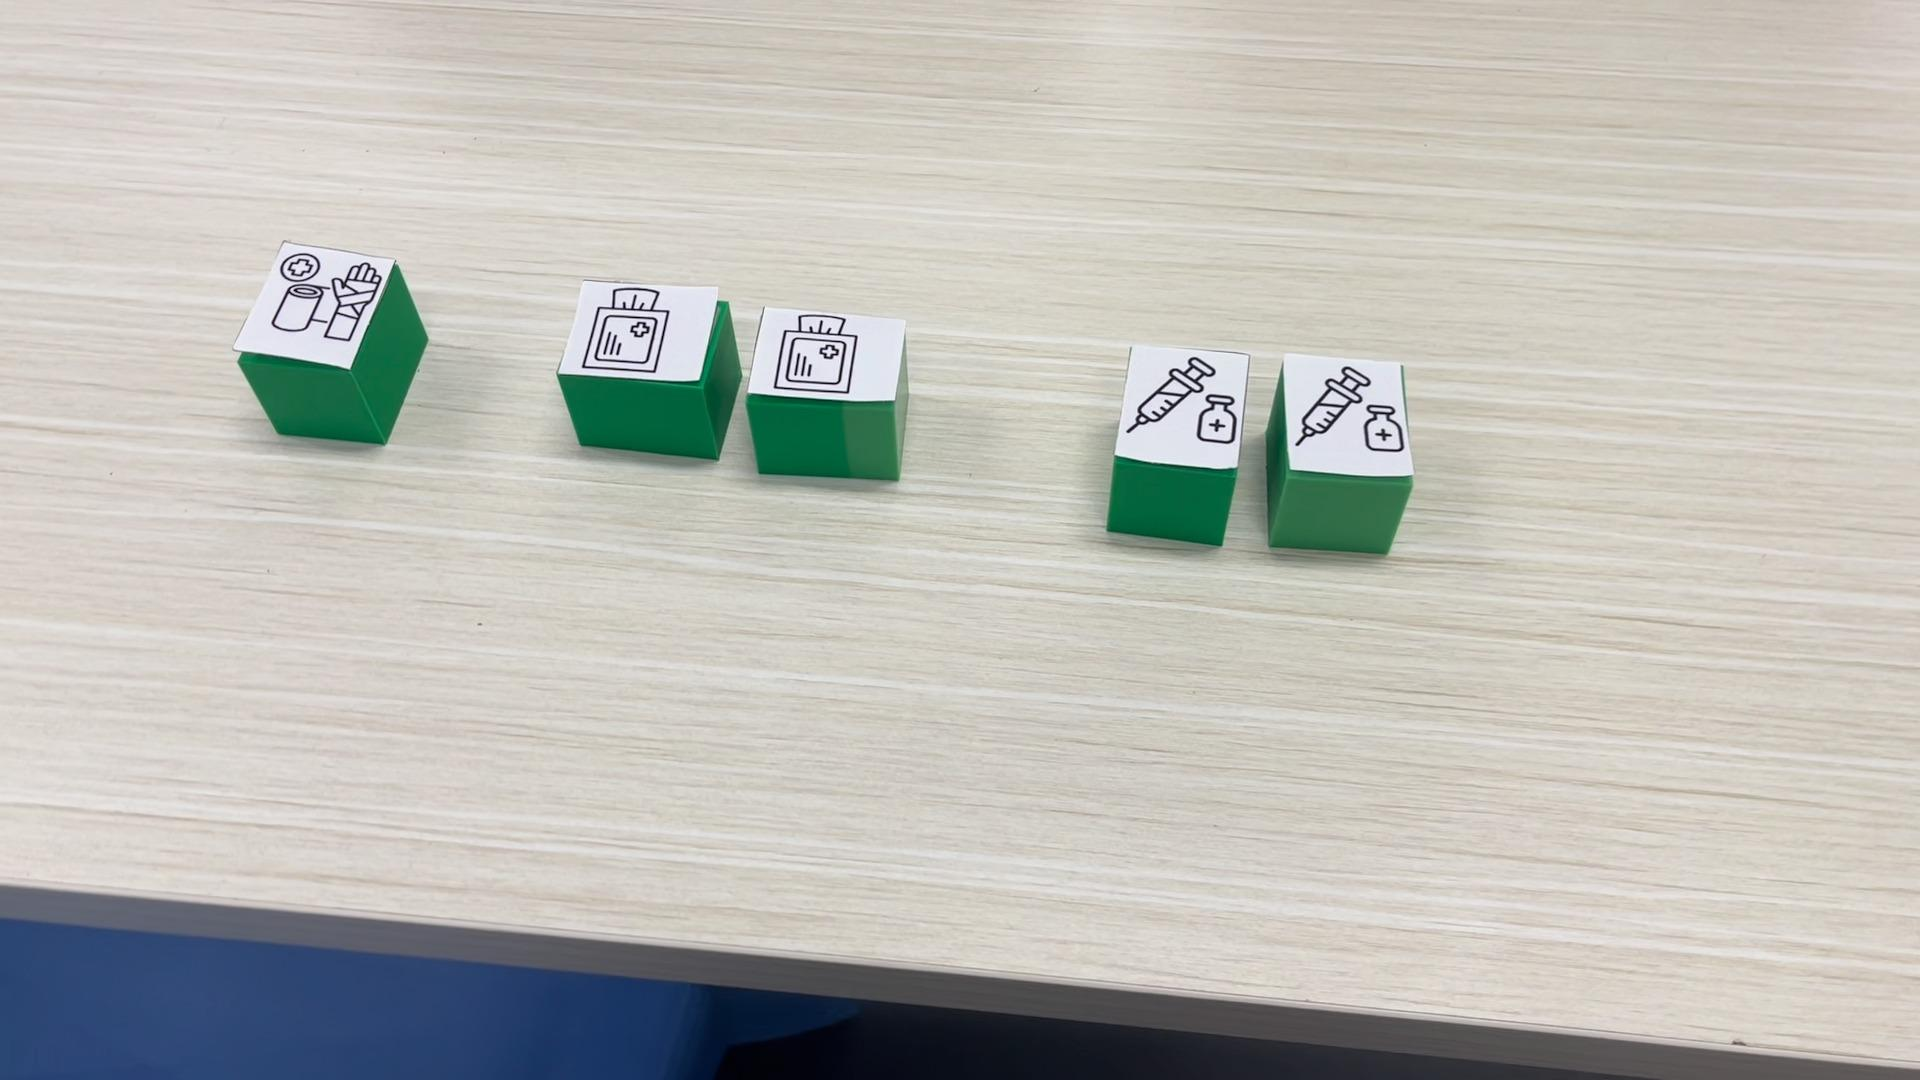Bandages: (233, 239, 429, 444)
Gauze: (555, 277, 741, 462), (744, 303, 910, 485)
antiseptic cream: (1250, 344, 1416, 553), (1104, 342, 1255, 549)
